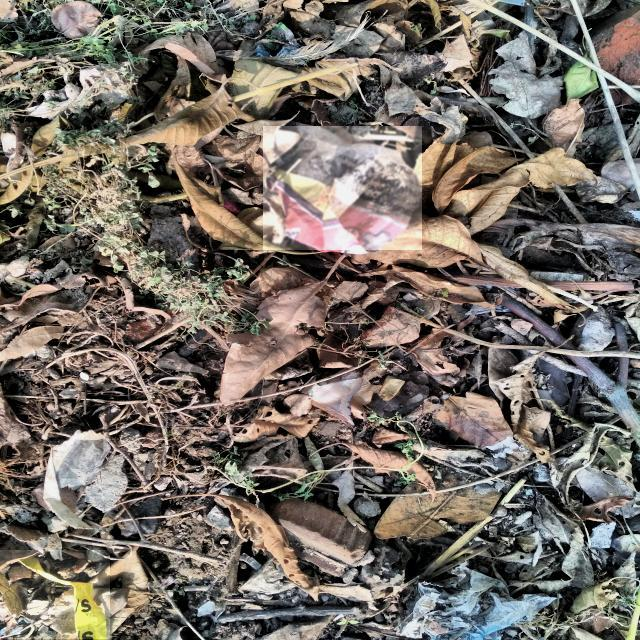anorganik: (264, 126, 421, 250), (0, 551, 110, 639)
